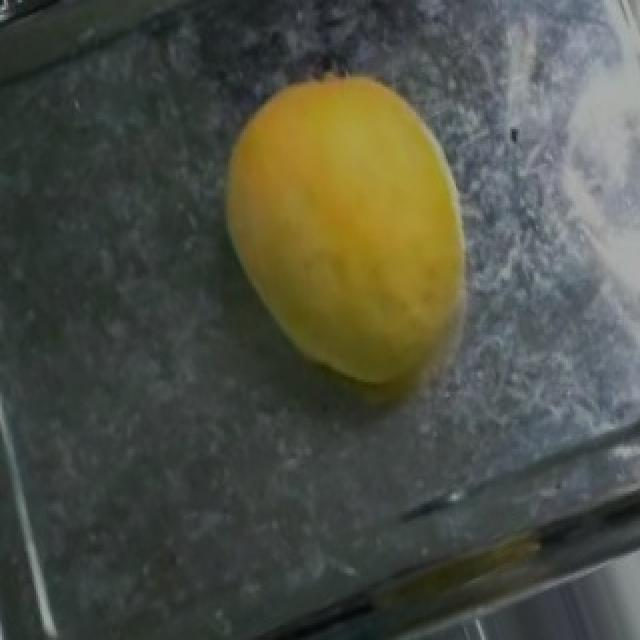fruit: (178, 42, 546, 424)
